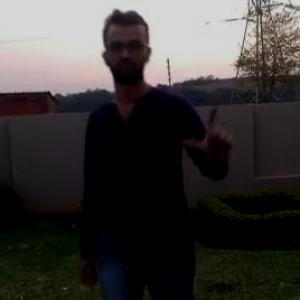land_hand: (182, 100, 238, 166)
